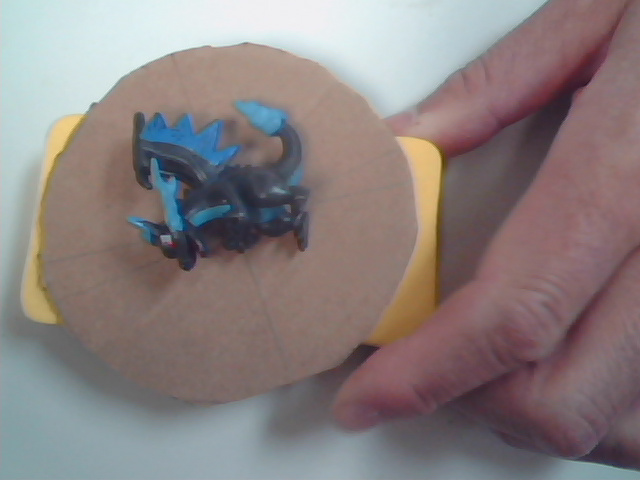charizard: (99, 80, 337, 308)
